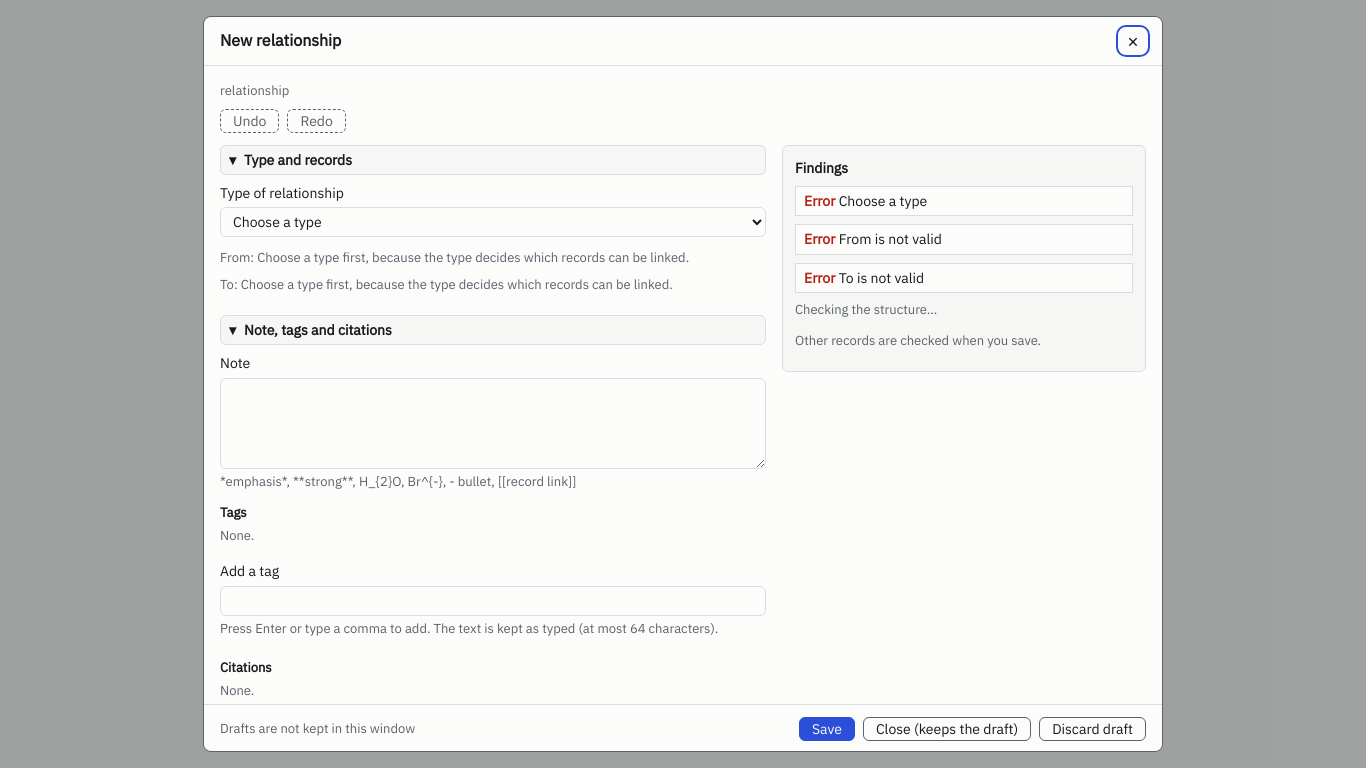
Test: the ends › refuses the other end as this end, in words, with no button
The image size is (1366, 768).
Step 1. Select "Related to" in the dropdown labelled "Type of relationship" → {"x": 493, "y": 222}, box [220,207,766,237]
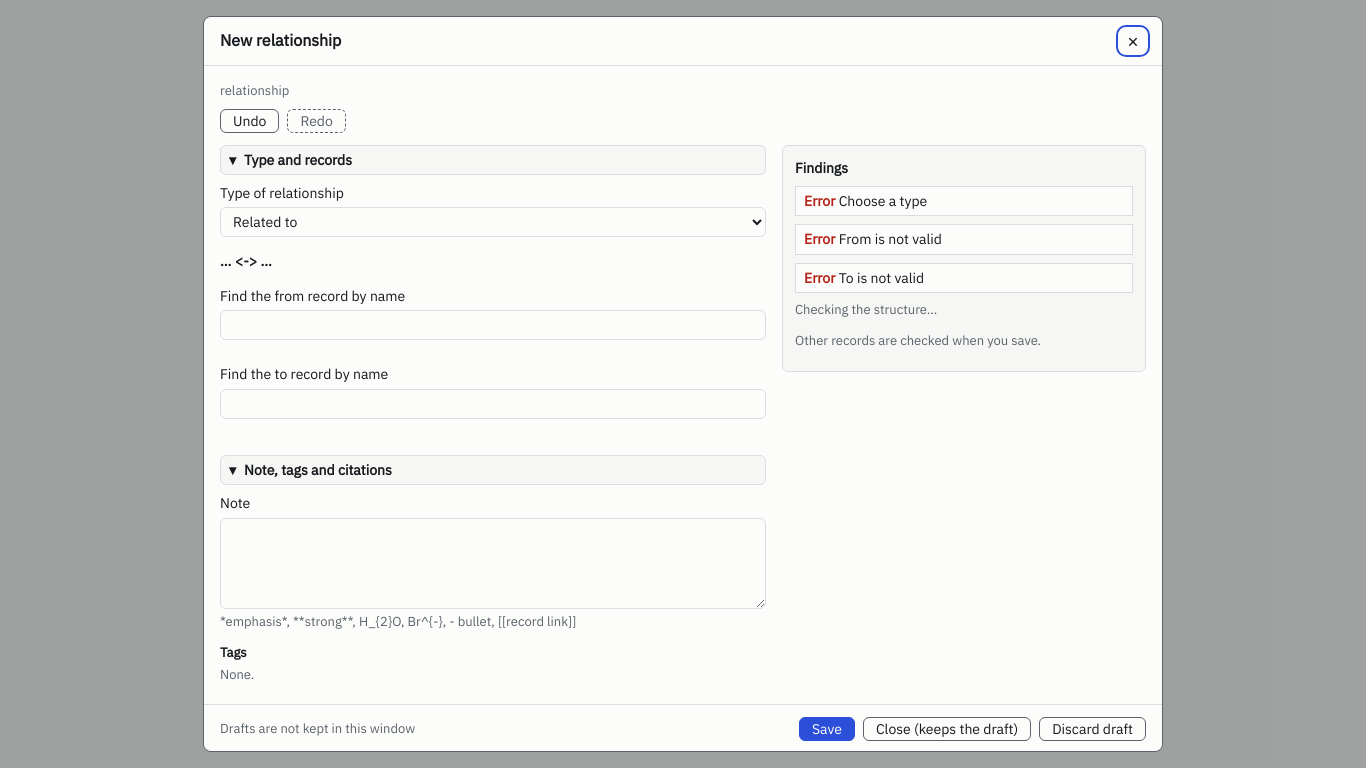
Step 2. Type "Inductive" into the search field labelled "Find the from record by name" → {"x": 493, "y": 325}, box [220,310,766,340]
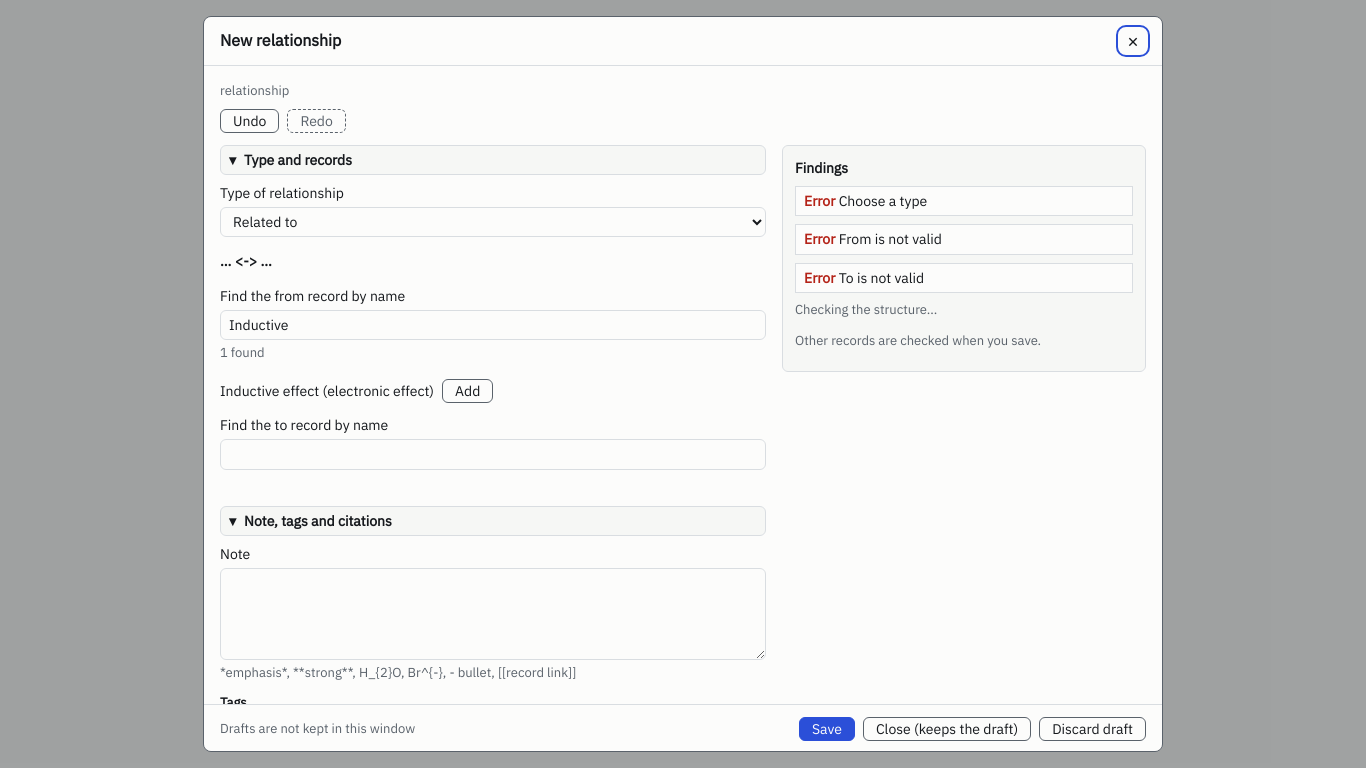
Step 3. Click the button "Add" → {"x": 468, "y": 391}, box [442,379,493,403]
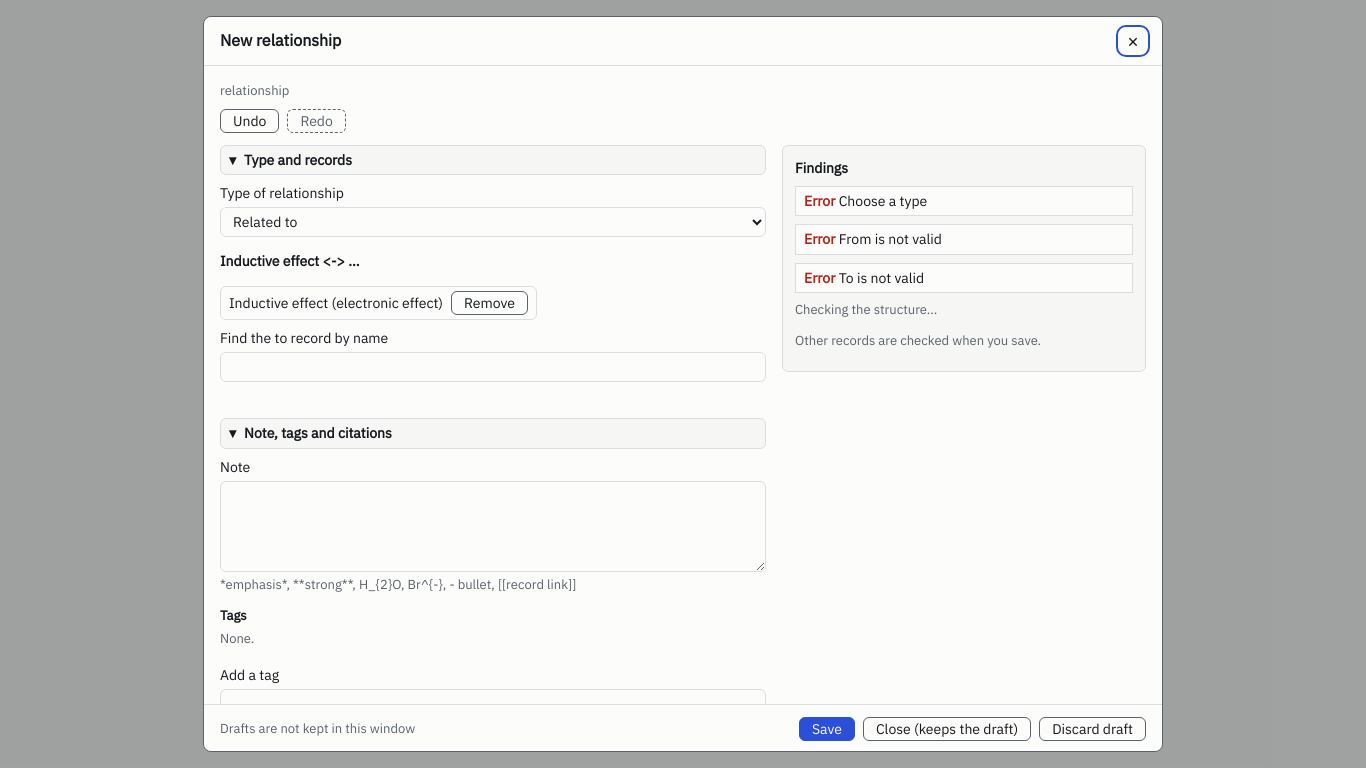
Step 4. Type "Inductive" into the search field labelled "Find the to record by name" → {"x": 493, "y": 367}, box [220,352,766,382]
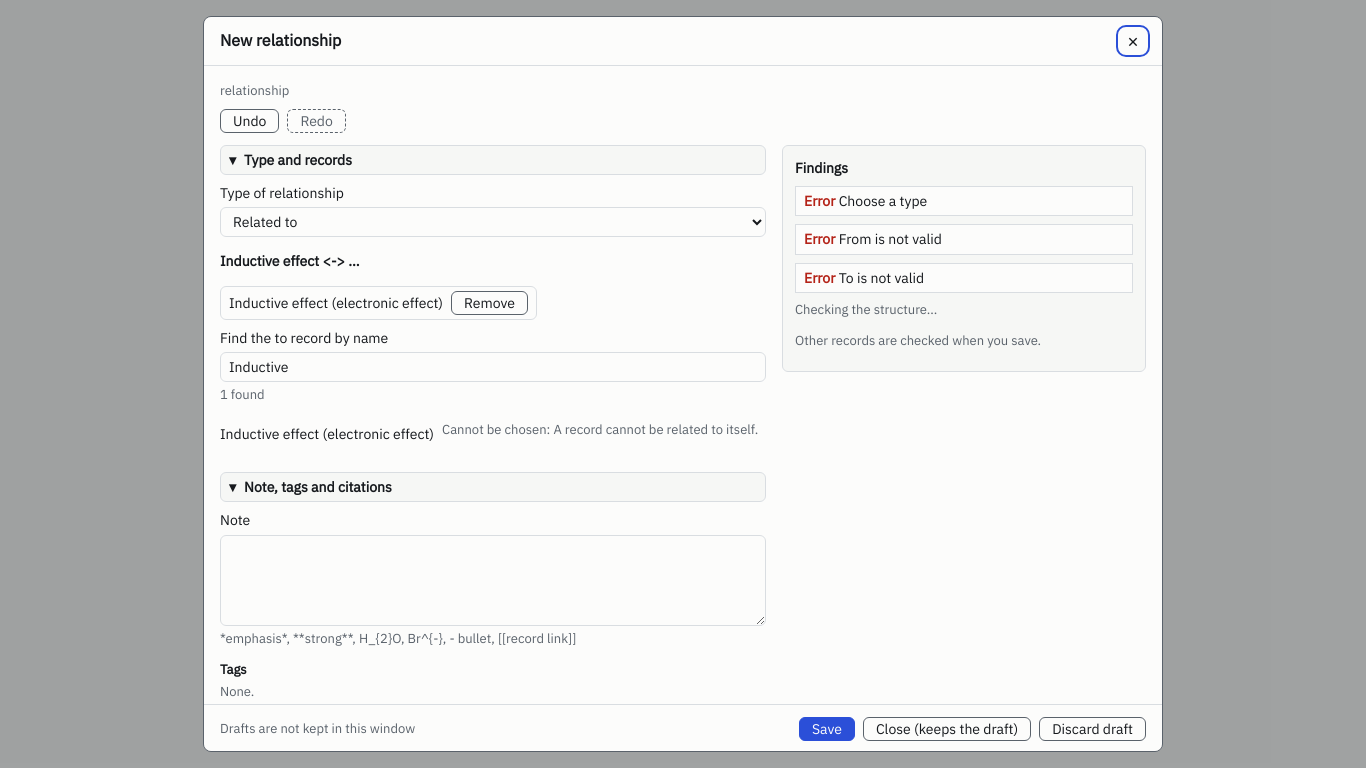
Expected: the list named "Records found" shows "Cannot be chosen: A record cannot be related to itself", [220,421,766,448]
